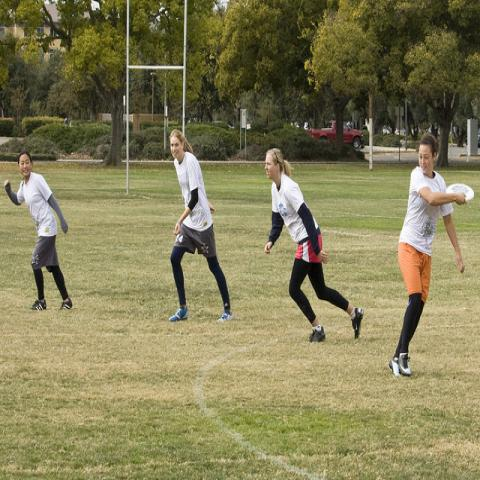car: (212, 120, 236, 128)
truck: (306, 120, 365, 152)
